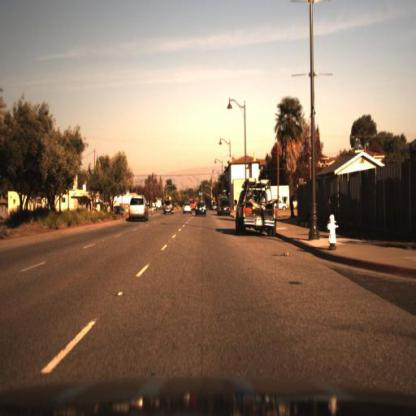car: (234, 180, 281, 240), (123, 186, 152, 224), (164, 195, 181, 220), (216, 197, 234, 220), (194, 199, 211, 221), (185, 198, 197, 218)
